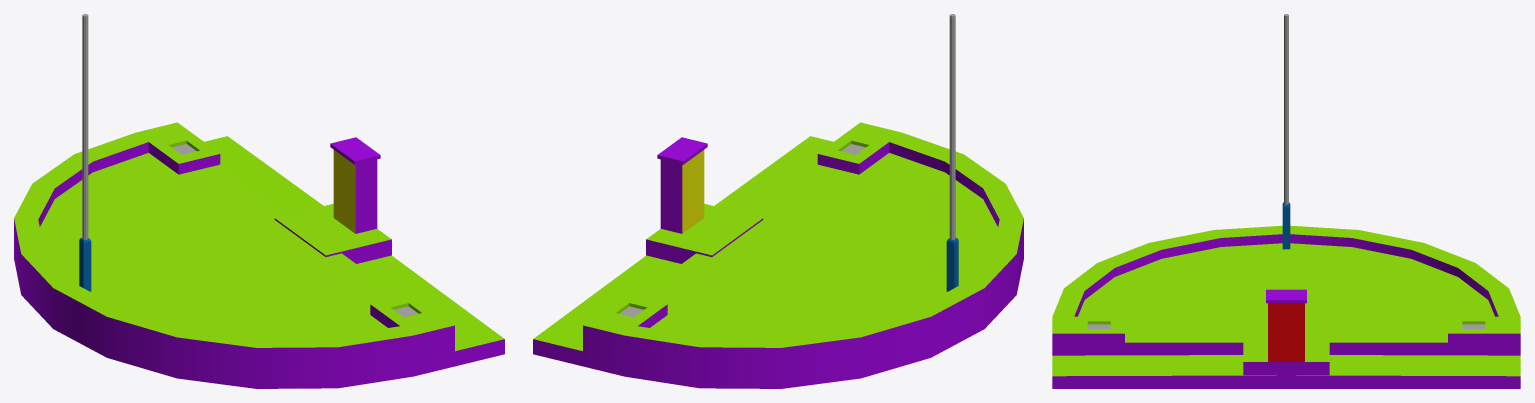
The model's file is FlagstaffMonument.fbx.
3 views of the same model, side by side, from view 1: azimuth 30°, elevation 25°; view 2: azimuth 150°, elevation 25°; view 3: azimuth 270°, elevation 25° (orthographic). The views are drawn at different scales.
Parts seen in each view (by area): view 1: pCylinder8; view 2: pCylinder8; view 3: pCylinder8.
Part boxes in pixels (<box>): pCylinder8: <box>14,14,504,388</box>; pCylinder8: <box>533,14,1023,388</box>; pCylinder8: <box>1052,14,1520,388</box>.
Size of the model in its own units: 617 by 573 by 941.
